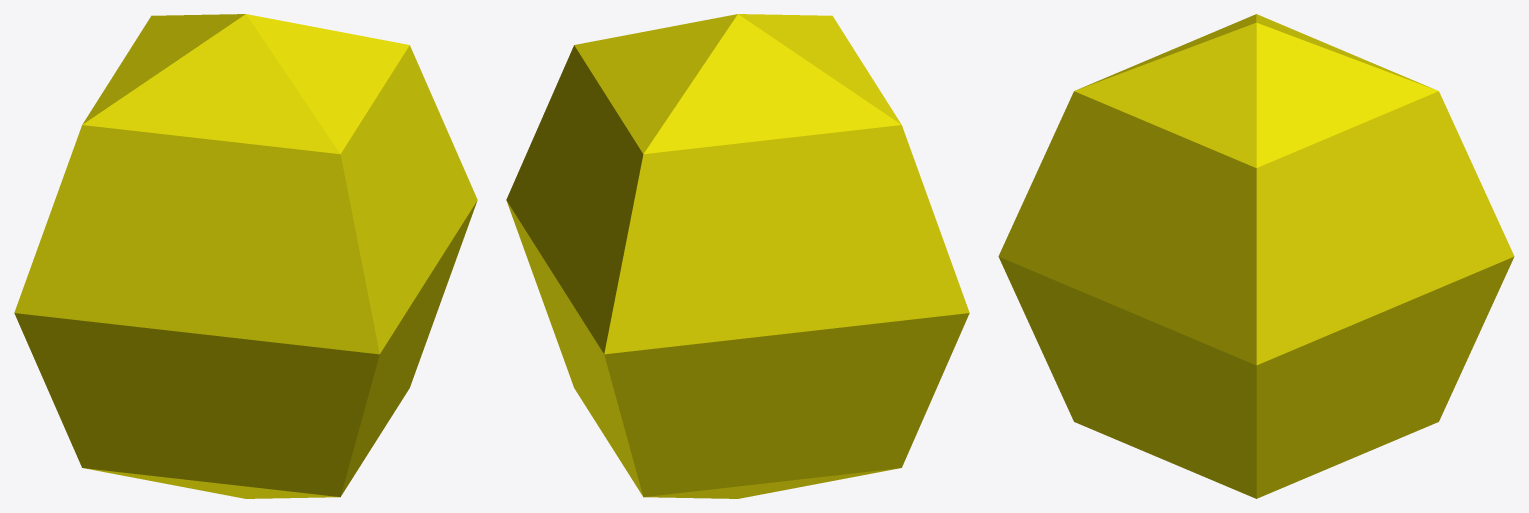
The model's file is Point.fbx.
3 views of the same model, side by side, from view 1: azimuth 30°, elevation 25°; view 2: azimuth 150°, elevation 25°; view 3: azimuth 270°, elevation 25° (orthographic). The views are drawn at different scales.
Visible parts, largest first — view 1: Point; view 2: Point; view 3: Point.
Part boxes in pixels (box(x1,y1,x2,y2)): Point: box(14, 14, 477, 498); Point: box(506, 14, 969, 498); Point: box(998, 14, 1514, 498).
Size of the model in its own units: 20 by 20 by 20.
